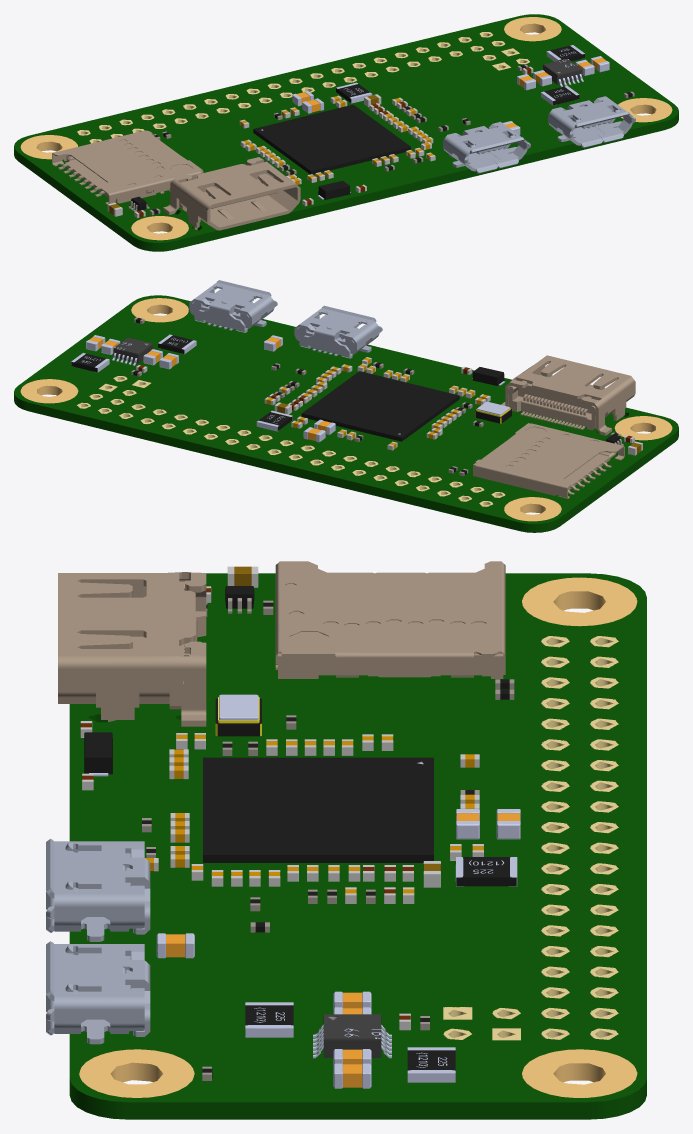
File: RapberryPiZero.fbx
The picture shows the model from 3 angles, top to bottom: view 1: azimuth 30°, elevation 25°; view 2: azimuth 150°, elevation 25°; view 3: azimuth 270°, elevation 25°; orthographic projection. The views are drawn at different scales.
Visible parts, largest first — view 1: mesh_9 0204 - Capacitor-23, mesh_16 0204 - Capacitor-16, mesh_5 0204 - Capacitor-30, mesh_6 0204 - Capacitor-20, mesh_7 0204 - Capacitor-22, mesh_8 0204 - Capacitor-15, mesh_1 0204 - Capacitor-25, mesh_3 Imported1 face, mesh_20 0204- Resistor-15, mesh_2 Imported1, mesh_18 0204 - Capacitor-29, mesh_10 0204 - Capacitor-27 (+1 smaller); view 2: mesh_9 0204 - Capacitor-23, mesh_16 0204 - Capacitor-16, mesh_5 0204 - Capacitor-30, mesh_6 0204 - Capacitor-20, mesh_7 0204 - Capacitor-22, mesh_8 0204 - Capacitor-15, mesh_1 0204 - Capacitor-25, mesh_3 Imported1 face, mesh_20 0204- Resistor-15, mesh_2 Imported1, mesh_18 0204 - Capacitor-29, mesh_10 0204 - Capacitor-27 (+1 smaller); view 3: mesh_9 0204 - Capacitor-23, mesh_16 0204 - Capacitor-16, mesh_5 0204 - Capacitor-30, mesh_6 0204 - Capacitor-20, mesh_7 0204 - Capacitor-22, mesh_8 0204 - Capacitor-15, mesh_1 0204 - Capacitor-25, mesh_3 Imported1 face, mesh_20 0204- Resistor-15, mesh_2 Imported1, mesh_18 0204 - Capacitor-29, mesh_10 0204 - Capacitor-27 (+1 smaller).
Part boxes in pixels (x1,y1,x2,y2): mesh_9 0204 - Capacitor-23: [14, 14, 678, 251]; mesh_16 0204 - Capacitor-16: [52, 130, 300, 230]; mesh_5 0204 - Capacitor-30: [152, 65, 632, 214]; mesh_6 0204 - Capacitor-20: [443, 96, 635, 173]; mesh_7 0204 - Capacitor-22: [20, 17, 672, 240]; mesh_8 0204 - Capacitor-15: [77, 32, 529, 143]; mesh_1 0204 - Capacitor-25: [107, 66, 533, 218]; mesh_3 Imported1 face: [261, 45, 609, 199]; mesh_20 0204- Resistor-15: [336, 45, 584, 105]; mesh_2 Imported1: [240, 96, 433, 184]; mesh_18 0204 - Capacitor-29: [543, 58, 582, 84]; mesh_10 0204 - Capacitor-27: [296, 58, 606, 127]; mesh_9 0204 - Capacitor-23: [14, 295, 678, 532]; mesh_16 0204 - Capacitor-16: [473, 355, 635, 498]; mesh_5 0204 - Capacitor-30: [133, 318, 618, 474]; mesh_6 0204 - Capacitor-20: [189, 280, 382, 358]; mesh_7 0204 - Capacitor-22: [20, 298, 672, 521]; mesh_8 0204 - Capacitor-15: [77, 376, 505, 506]; mesh_1 0204 - Capacitor-25: [136, 357, 642, 455]; mesh_3 Imported1 face: [71, 334, 509, 442]; mesh_20 0204- Resistor-15: [71, 335, 292, 430]; mesh_2 Imported1: [266, 358, 487, 449]; mesh_18 0204 - Capacitor-29: [113, 337, 152, 363]; mesh_10 0204 - Capacitor-27: [89, 337, 331, 440]; mesh_9 0204 - Capacitor-23: [69, 573, 646, 1119]; mesh_16 0204 - Capacitor-16: [58, 561, 505, 726]; mesh_5 0204 - Capacitor-30: [84, 602, 509, 1077]; mesh_6 0204 - Capacitor-20: [46, 839, 150, 1044]; mesh_7 0204 - Capacitor-22: [79, 577, 637, 1097]; mesh_8 0204 - Capacitor-15: [443, 636, 618, 1040]; mesh_1 0204 - Capacitor-25: [80, 566, 483, 1030]; mesh_3 Imported1 face: [89, 694, 520, 1088]; mesh_20 0204- Resistor-15: [245, 857, 516, 1070]; mesh_2 Imported1: [145, 735, 483, 893]; mesh_18 0204 - Capacitor-29: [323, 1014, 381, 1057]; mesh_10 0204 - Capacitor-27: [166, 813, 519, 1087].
Bounding box in the file's own units: 0.065 × 0.00445 × 0.0312.
